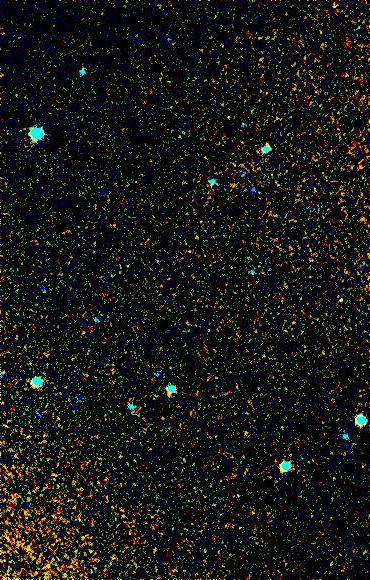star: (324, 284, 354, 314)
